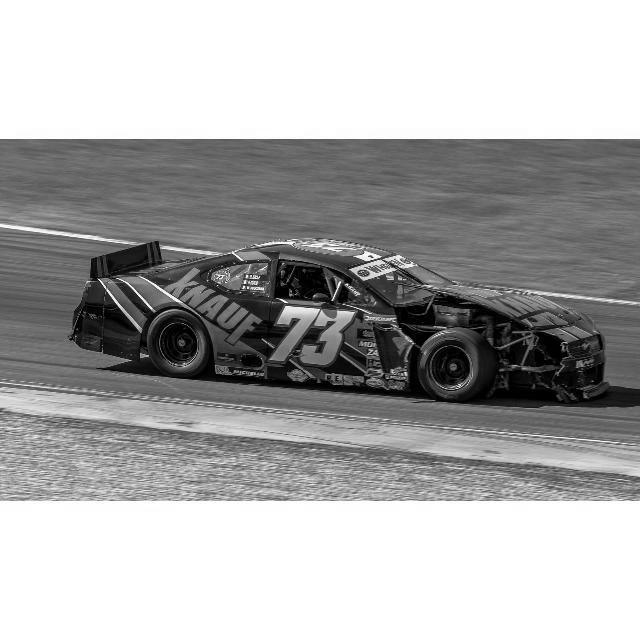fender-dent: (411, 291, 527, 345)
